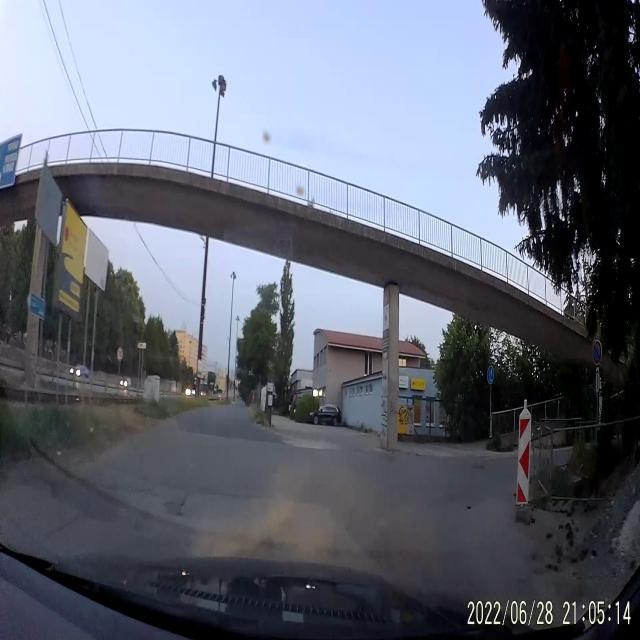Pothole: (162, 490, 190, 518)
